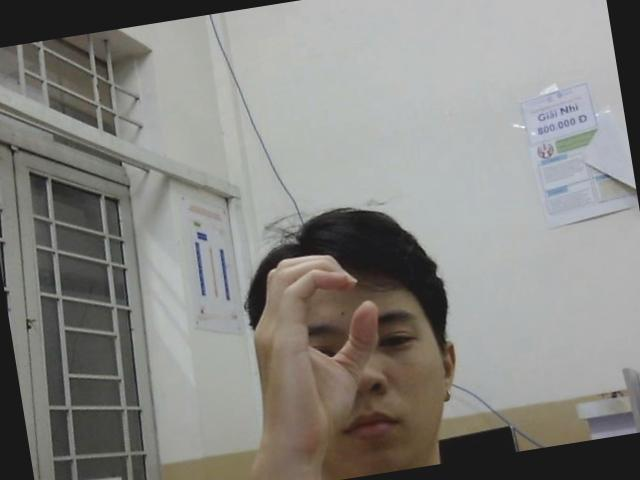C: (234, 244, 394, 448)
